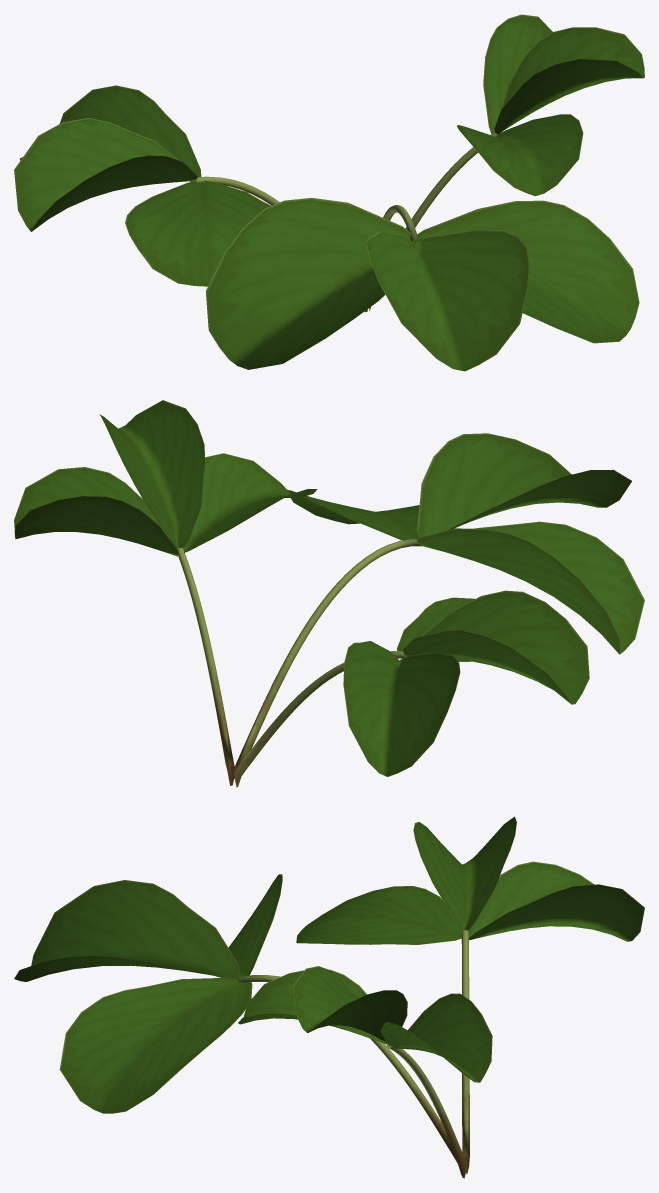
The model's file is strawberry_small.obj.
3 renders of one model, top to bottom at view 1: azimuth 30°, elevation 25°; view 2: azimuth 150°, elevation 25°; view 3: azimuth 270°, elevation 25°, orthographic. The views are drawn at different scales.
Visible parts, largest first — view 1: strawberry_small; view 2: strawberry_small; view 3: strawberry_small.
Boxes of the visible parts, box(x1,y1,x2,y2) form: strawberry_small: box(14, 14, 644, 371); strawberry_small: box(14, 400, 644, 787); strawberry_small: box(14, 816, 644, 1178).
Size of the model in its own units: 9 by 4.34 by 9.22.
1 material, 1 textured.
